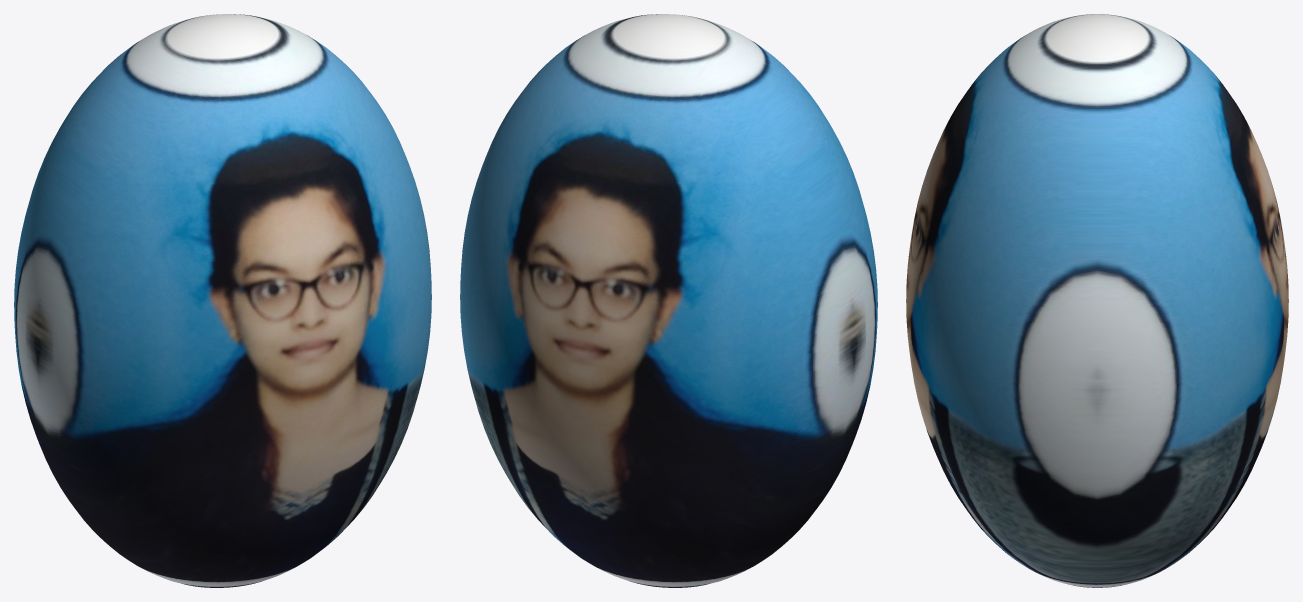
Rendered from madithati-induja.glb.
3 renders of one model, left to right at view 1: azimuth 30°, elevation 25°; view 2: azimuth 150°, elevation 25°; view 3: azimuth 270°, elevation 25°, orthographic.
Visible parts, largest first — view 1: head; view 2: head; view 3: head.
Part boxes in pixels (bbox=[...]): head: bbox=[14, 14, 431, 587]; head: bbox=[460, 14, 877, 587]; head: bbox=[906, 14, 1288, 587].
Bounding box in the file's own units: 1.41 × 2 × 1.27.
Materials: 1 (1 with a texture image).
